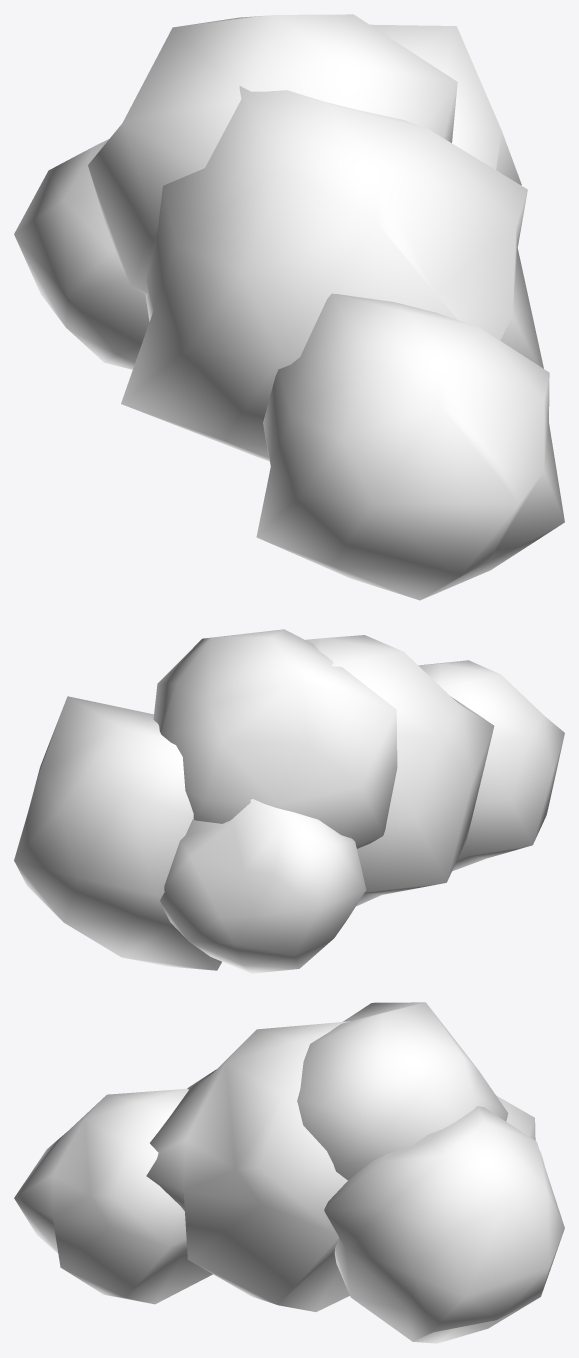
File: cloud.fbx
The picture shows the model from 3 angles, top to bottom: view 1: azimuth 30°, elevation 25°; view 2: azimuth 150°, elevation 25°; view 3: azimuth 270°, elevation 25°; orthographic projection. The views are drawn at different scales.
Visible parts, largest first — view 1: Cloud01; view 2: Cloud01; view 3: Cloud01.
Part boxes in pixels (bbox=[...]): Cloud01: bbox=[14, 14, 564, 600]; Cloud01: bbox=[14, 629, 564, 973]; Cloud01: bbox=[14, 1002, 564, 1343].
Size of the model in its own units: 3102 by 2765 by 4643.
